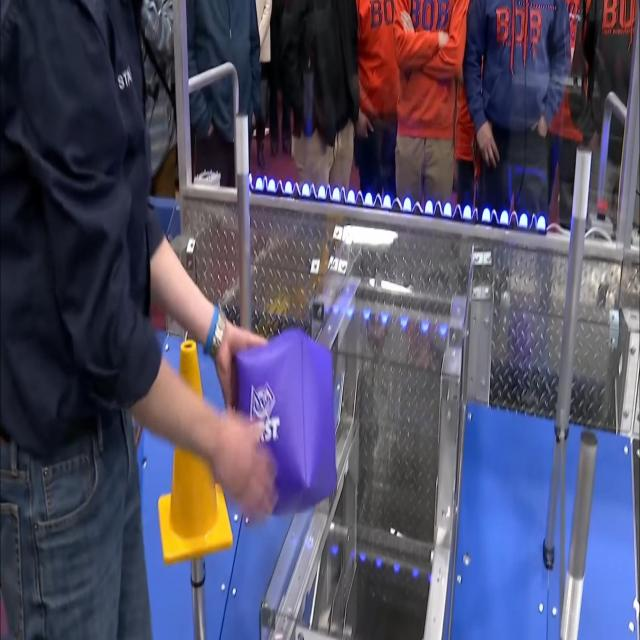frc_cone: (158, 337, 233, 565)
frc_cube: (232, 325, 340, 520)
